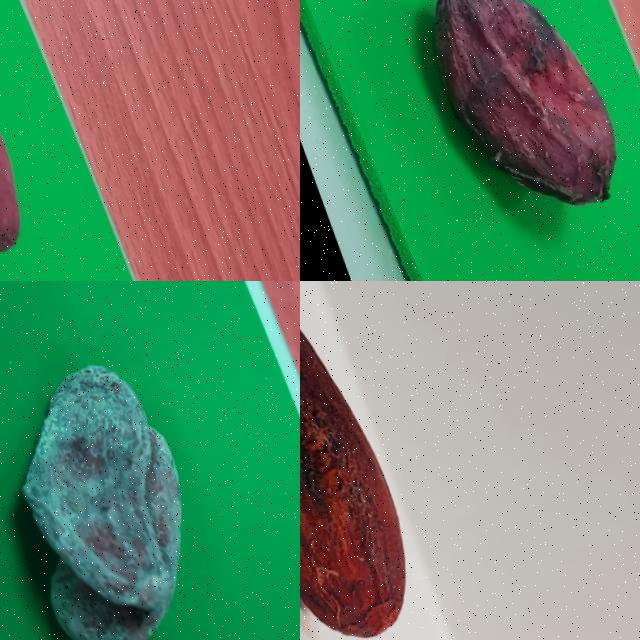Agglomerated_cocoabeans: (0, 291, 294, 639)
Fine_cocoabeans: (318, 0, 639, 280), (300, 281, 455, 639), (0, 0, 103, 280)
